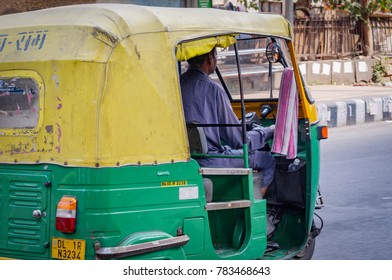threewheel: (1, 3, 328, 260)
